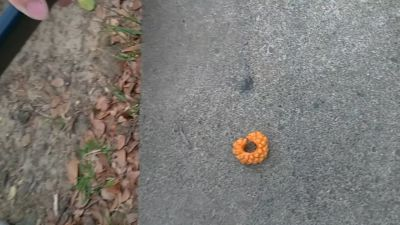eggs: (232, 130, 270, 165)
